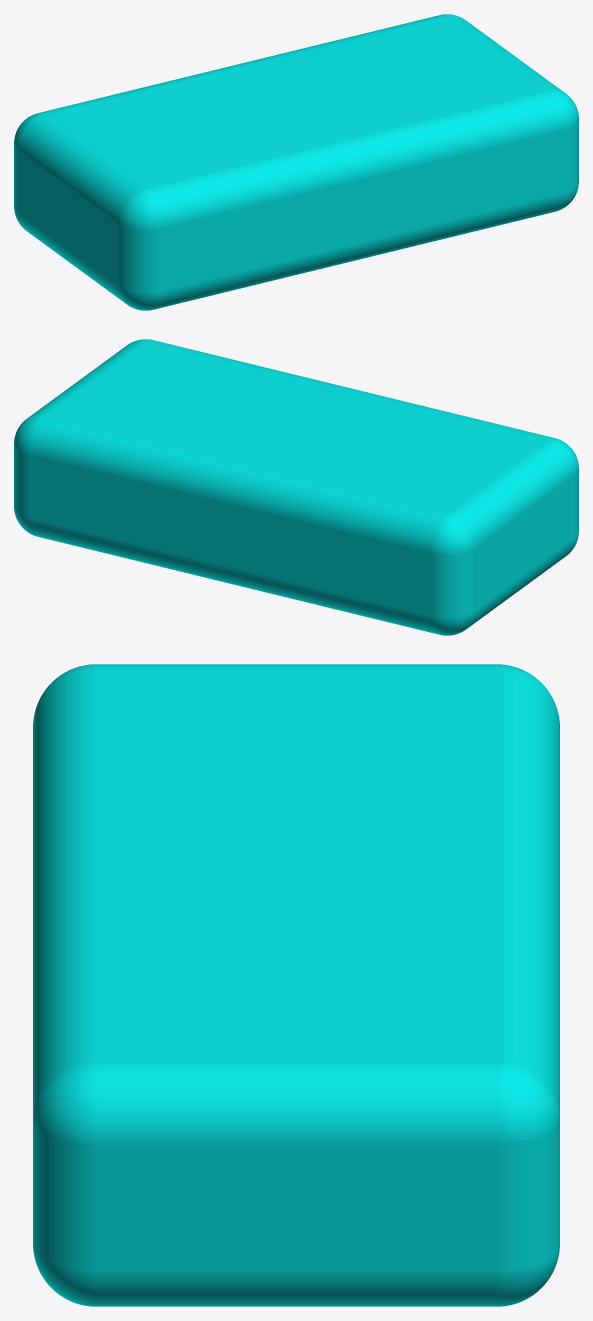
File: BlockBlue.fbx
3 views of the same model, one above another, from view 1: azimuth 30°, elevation 25°; view 2: azimuth 150°, elevation 25°; view 3: azimuth 270°, elevation 25° (orthographic). The views are drawn at different scales.
Parts seen in each view (by area): view 1: Cube.007; view 2: Cube.007; view 3: Cube.007.
Part boxes in pixels (box(x1,y1,x2,y2)): Cube.007: box(14, 14, 578, 310); Cube.007: box(14, 339, 578, 635); Cube.007: box(33, 664, 559, 1306).
Bounding box in the file's own units: 4 × 1 × 2.
